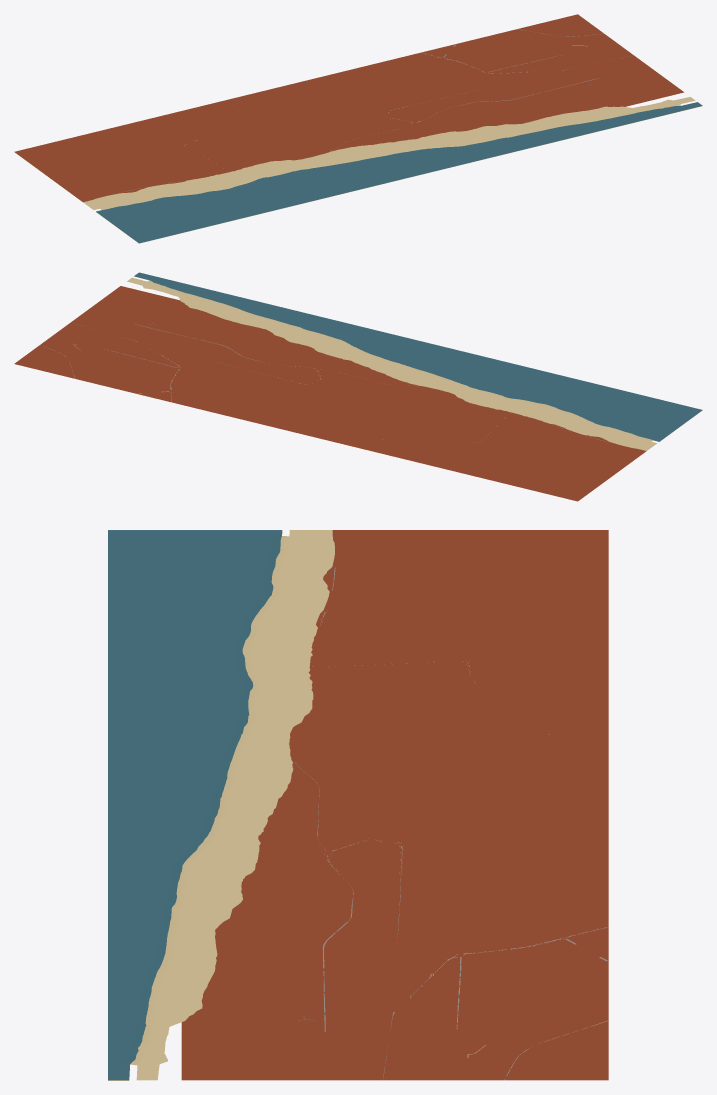
File: zone_commun.glb
The picture shows the model from 3 angles, top to bottom: view 1: azimuth 30°, elevation 25°; view 2: azimuth 150°, elevation 25°; view 3: azimuth 270°, elevation 25°; orthographic projection. The views are drawn at different scales.
Visible parts, largest first — view 1: sol_terre-col, mer, plage_front_de_mer, fond_marin, plage_estran-col; view 2: sol_terre-col, mer, plage_front_de_mer, plage_estran-col, fond_marin; view 3: sol_terre-col, mer, plage_front_de_mer, plage_estran-col, fond_marin, terre_plein-col.
Part boxes in pixels (<box>): sol_terre-col: <box>14,14,684,202</box>; mer: <box>96,102,702,243</box>; plage_front_de_mer: <box>83,97,695,209</box>; fond_marin: <box>96,103,702,243</box>; plage_estran-col: <box>100,104,680,210</box>; sol_terre-col: <box>14,286,646,501</box>; mer: <box>134,272,702,441</box>; plage_front_de_mer: <box>127,277,657,450</box>; plage_estran-col: <box>147,280,654,441</box>; fond_marin: <box>134,274,702,441</box>; sol_terre-col: <box>181,530,608,1080</box>; mer: <box>108,530,282,1080</box>; plage_front_de_mer: <box>136,530,334,1080</box>; plage_estran-col: <box>126,536,288,1065</box>; fond_marin: <box>108,532,282,1080</box>; terre_plein-col: <box>295,567,607,1080</box>.
Size of the model in its own units: 7082 by 3.12 by 2723.
